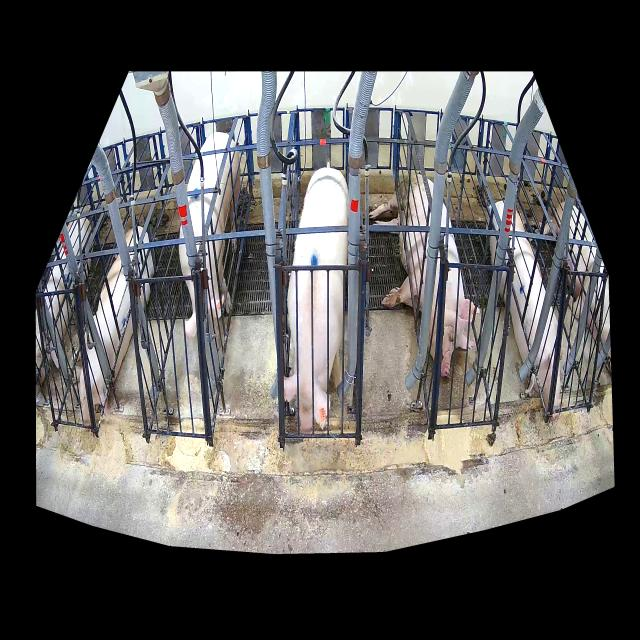pig: (370, 174, 475, 376), (284, 162, 349, 433), (72, 225, 154, 420), (486, 201, 562, 409), (179, 132, 241, 352)
